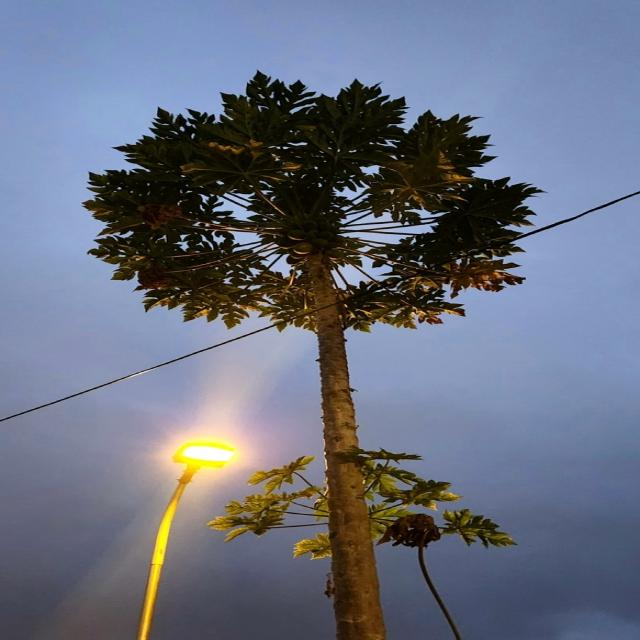Papaya-Tree: (67, 65, 625, 427)
